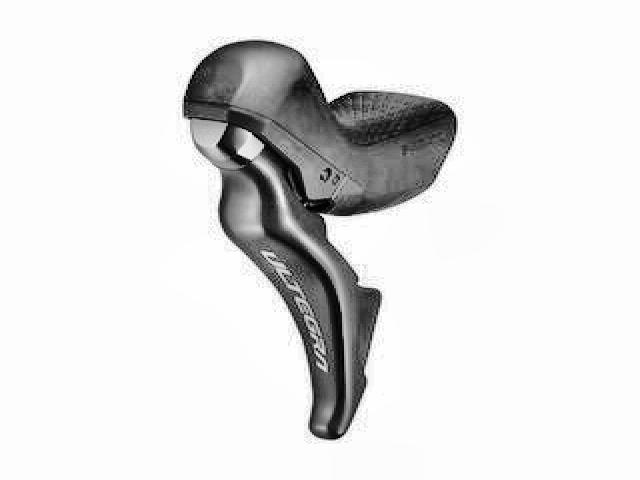sti_shifter: (180, 40, 452, 443)
